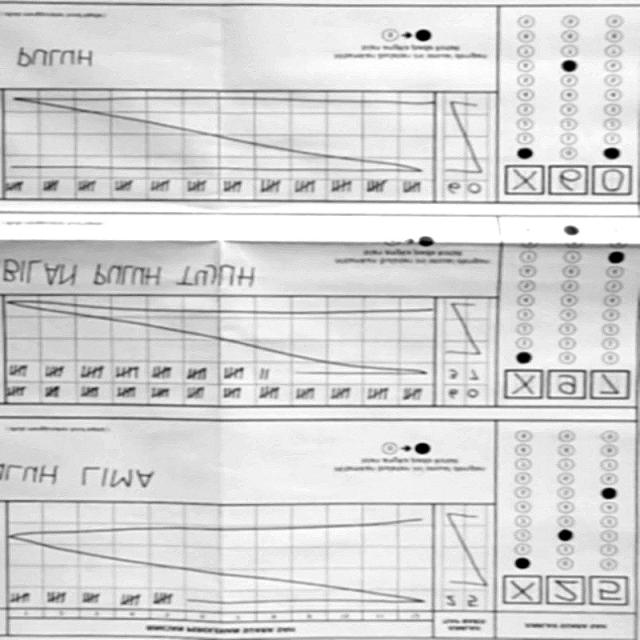Suara: (498, 367, 630, 408), (499, 164, 638, 201), (498, 576, 629, 614)
